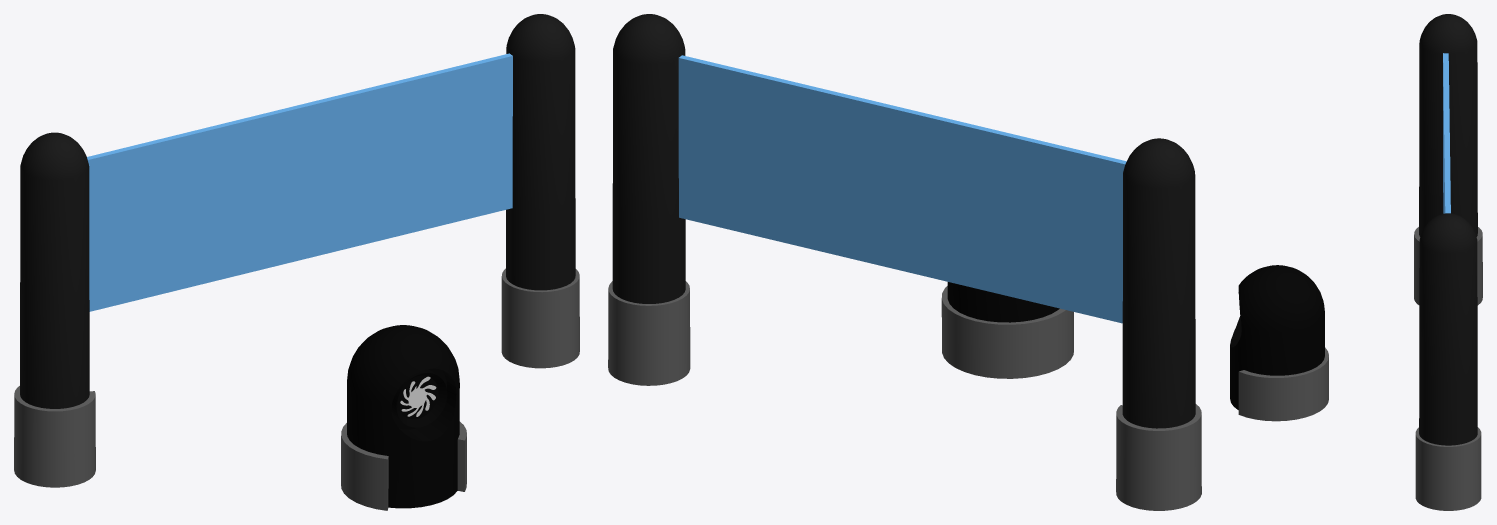
File: exchange plort.fbx
3 views of the same model, side by side, from view 1: azimuth 30°, elevation 25°; view 2: azimuth 150°, elevation 25°; view 3: azimuth 270°, elevation 25° (orthographic). The views are drawn at different scales.
Visible parts, largest first — view 1: Desk, exchange box; view 2: Desk, exchange box; view 3: Desk, exchange box.
Part boxes in pixels (x1,y1,x2,y2): Desk: [14, 14, 579, 487]; exchange box: [341, 325, 466, 510]; Desk: [608, 14, 1201, 510]; exchange box: [941, 282, 1073, 378]; Desk: [1414, 14, 1482, 510]; exchange box: [1230, 265, 1328, 421].
Size of the model in its own units: 1134 by 654 by 533.
6 materials, 1 textured.
